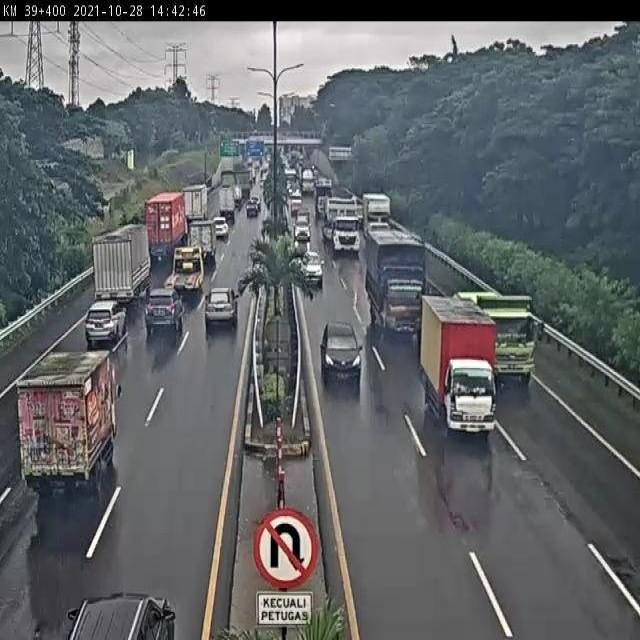big truck: (146, 192, 192, 257)
car: (320, 319, 363, 389), (143, 285, 181, 331), (90, 296, 131, 336), (205, 288, 240, 328), (300, 249, 325, 291)
mid truck: (168, 243, 208, 288)
small truck: (190, 220, 218, 267)
truck-l-: (455, 294, 535, 386), (366, 236, 425, 345), (364, 195, 394, 237)
truck-m-: (13, 354, 123, 494), (420, 298, 497, 438), (90, 224, 149, 297)
truck-xl-: (327, 198, 364, 250)
